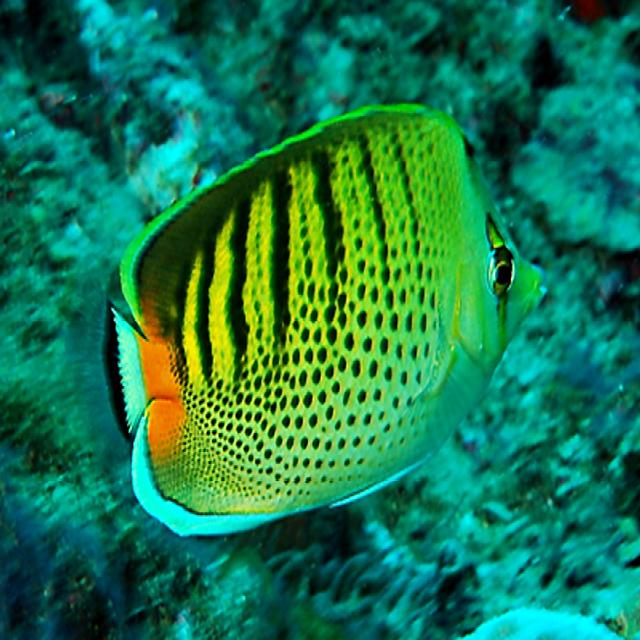ButterflyFish: (96, 108, 544, 542)
